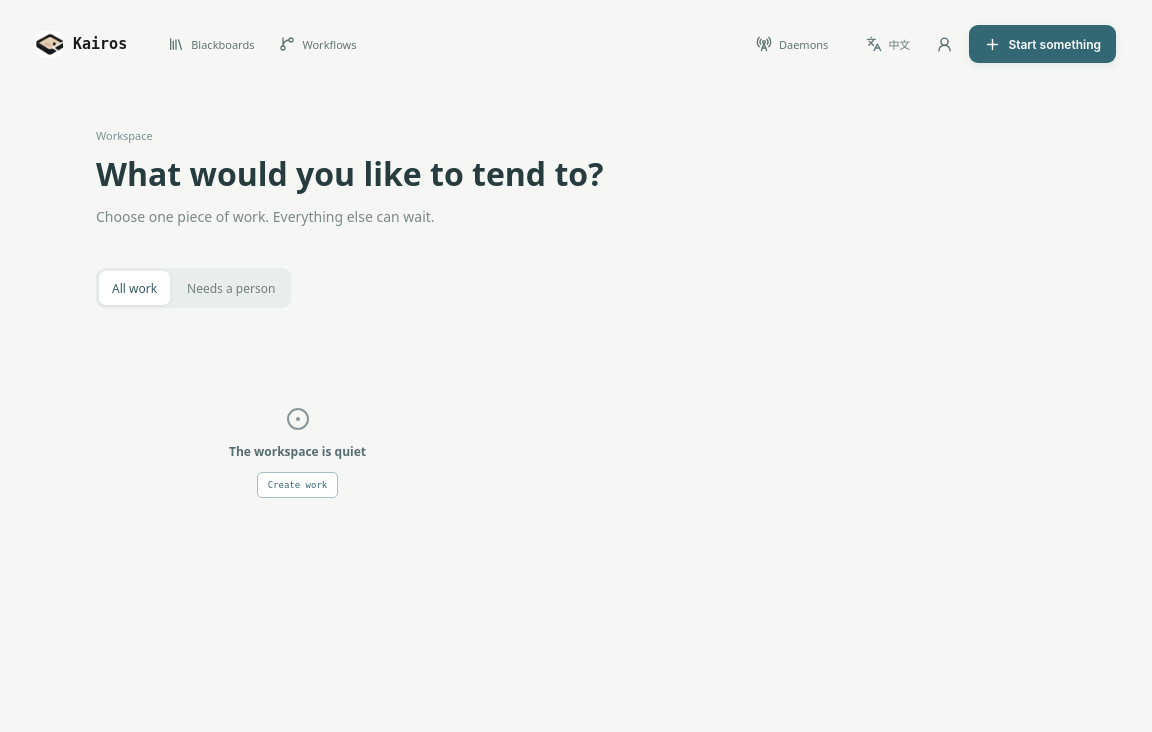
console authentication › restores a saved Token and supports logout
Step 1. Click the button named "Authenticated as: console-human" → [944, 44], box [927, 27, 961, 61]
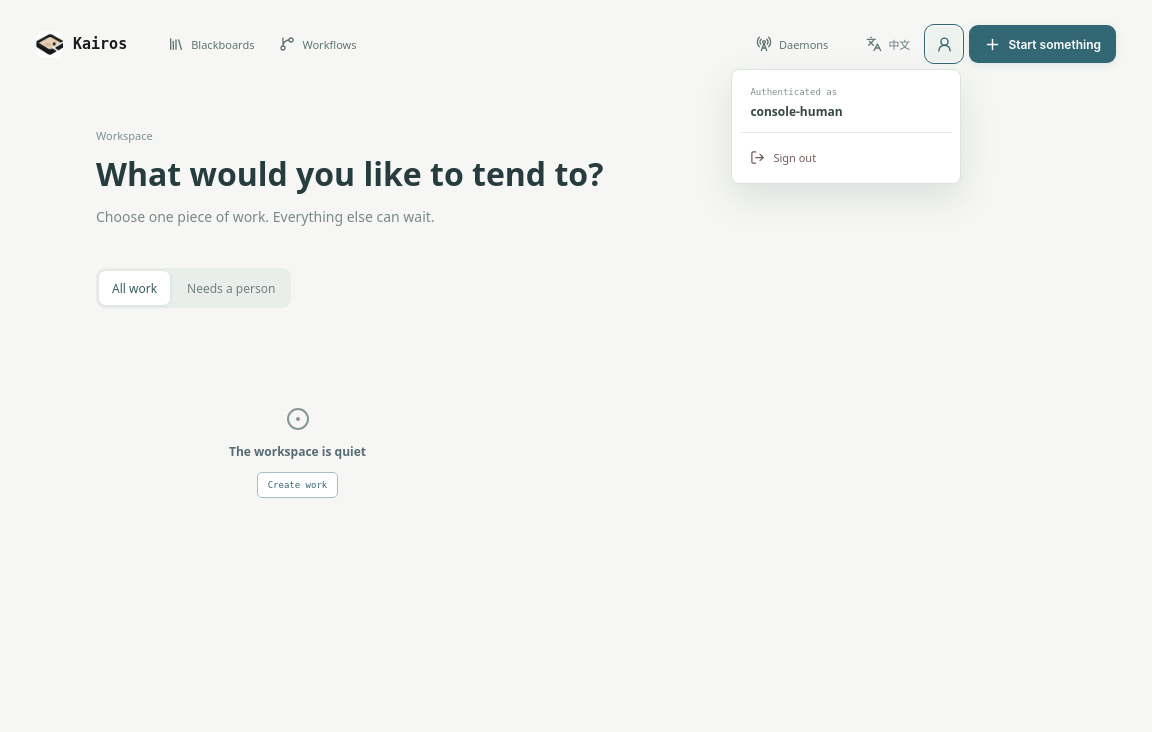
Step 2. Click the button "Sign out" → [846, 157], box [740, 139, 952, 175]
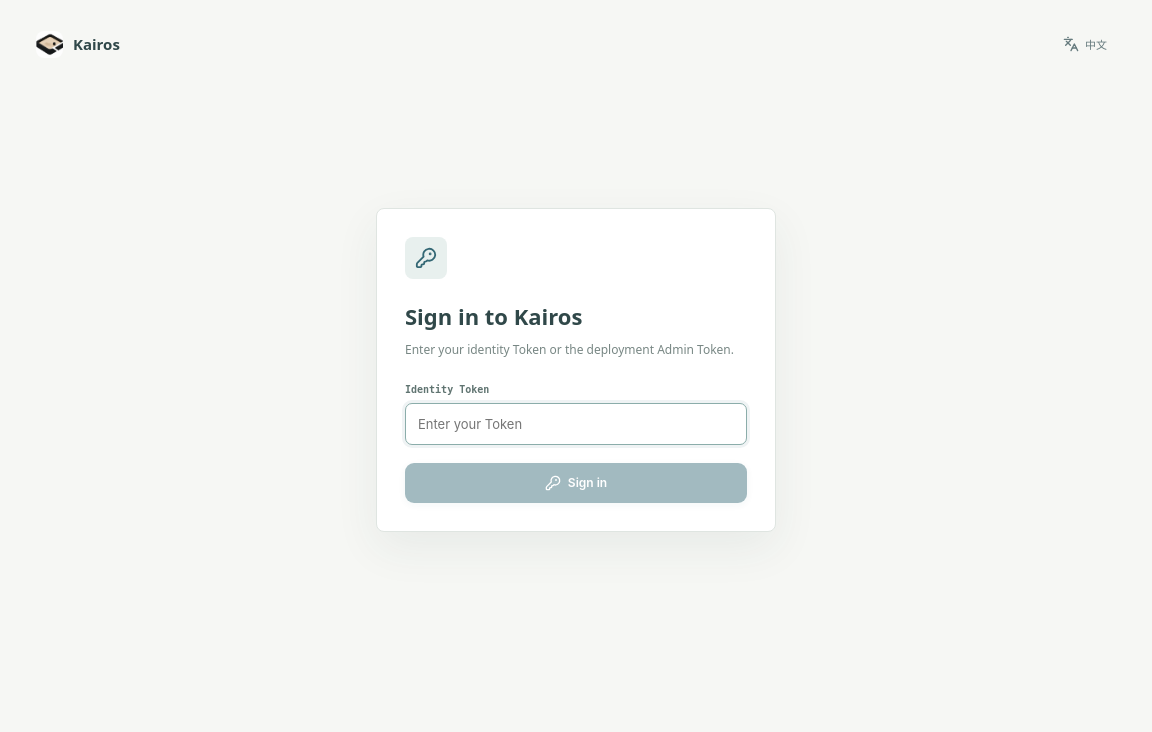
expect the heading "Sign in to Kairos" is shown: met, box [405, 301, 582, 331]
